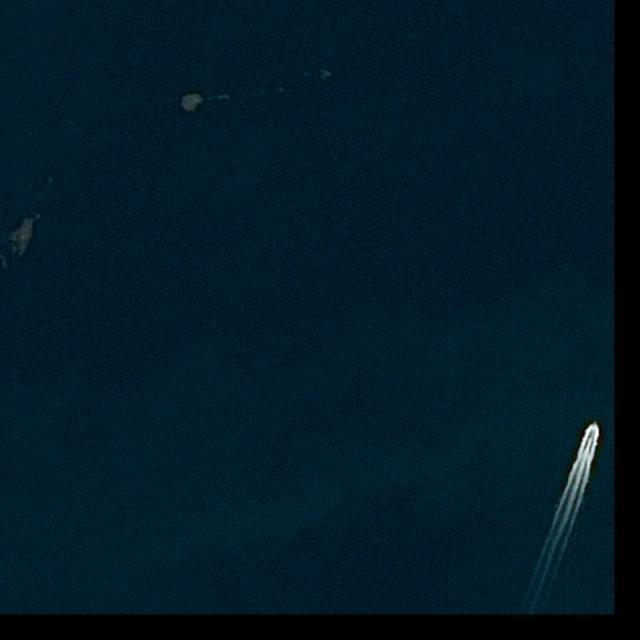ship: (589, 422, 598, 438)
